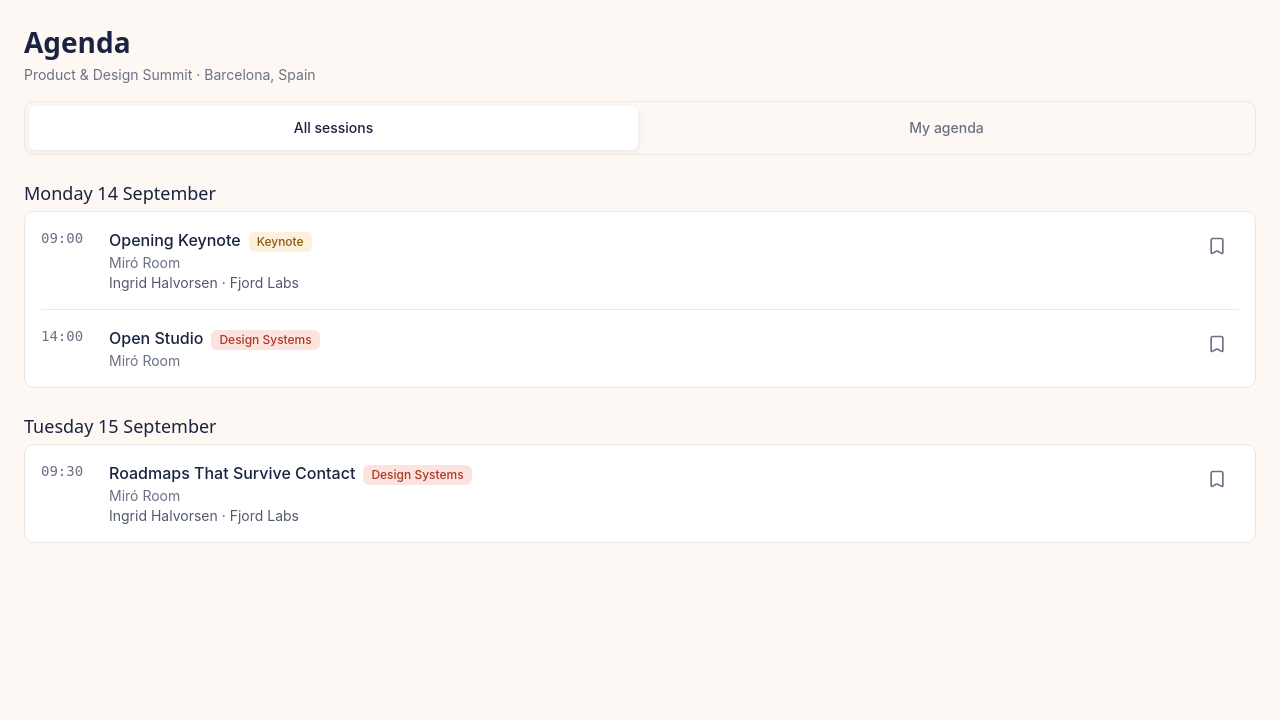
Test: writes attempted with no connection › REFUSES with an explanation rather than silently doing nothing (FR-217)
Expected: the link "Opening Keynote" is shown, [109,230,241,250]
Click the button named "save Opening Keynote to your agenda" at (1217, 246), box [1195,224,1239,268]
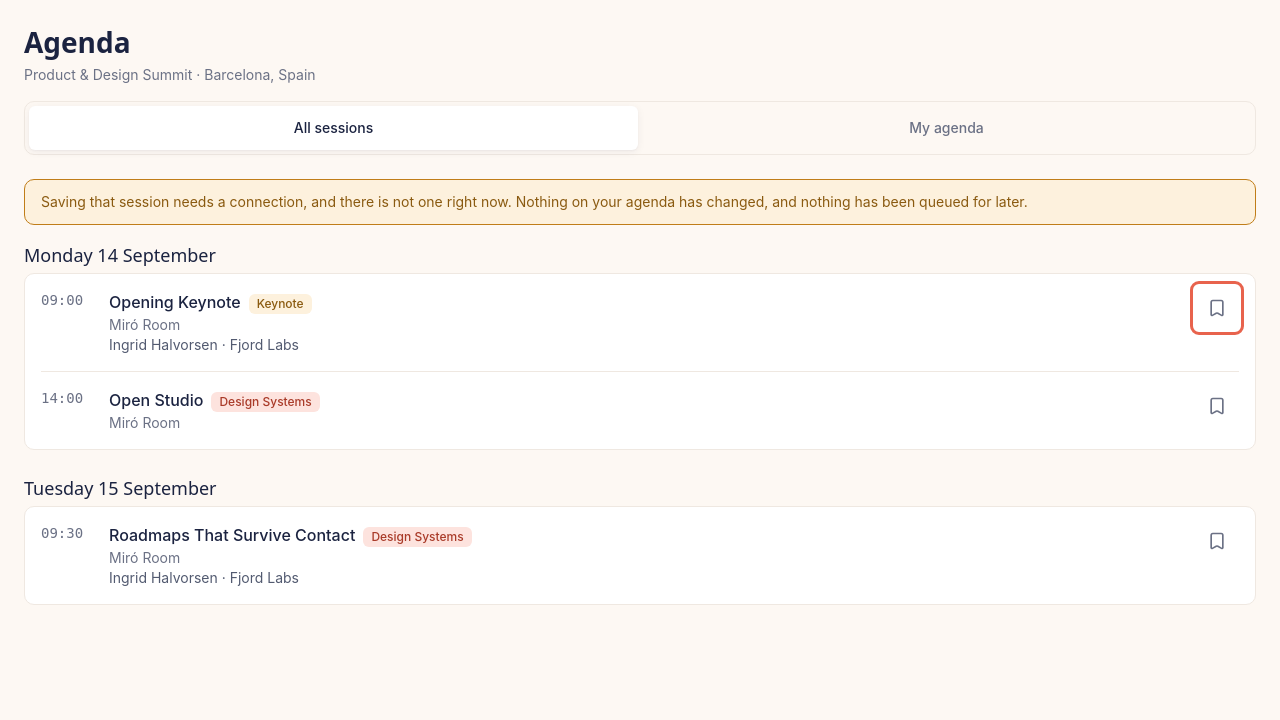
Expected: the message shows "needs a connection", [41,193,1028,210]
